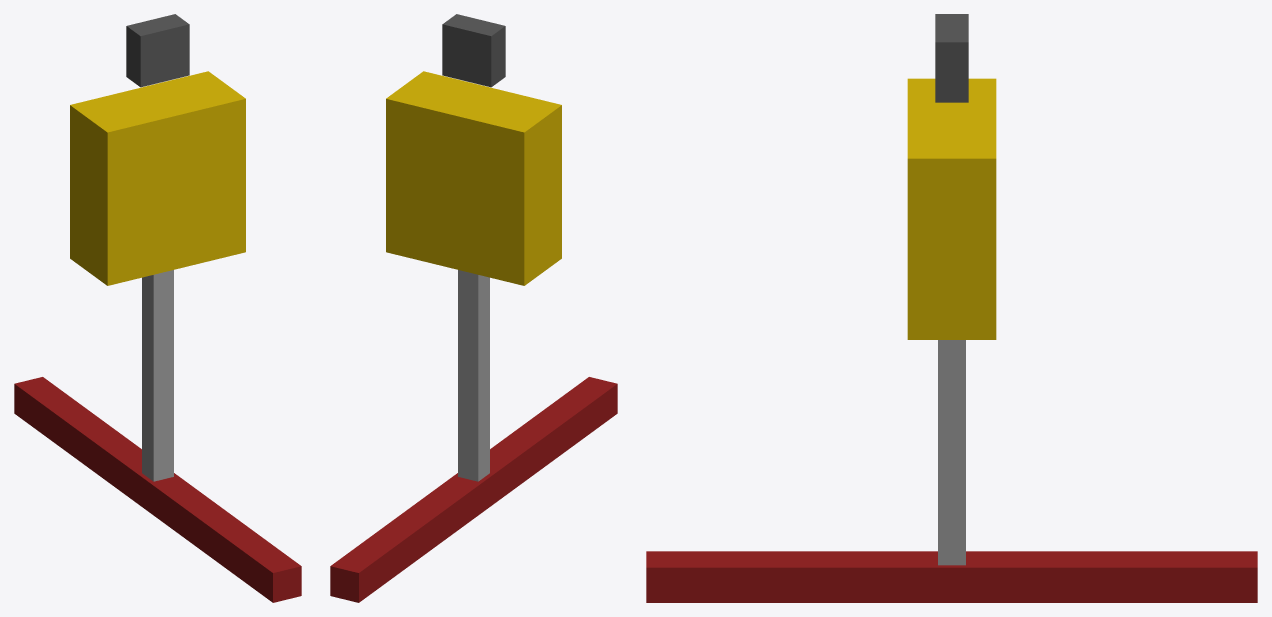
The model's file is tbar_hanger_up.obj.
The picture shows the model from 3 angles, left to right: view 1: azimuth 30°, elevation 25°; view 2: azimuth 150°, elevation 25°; view 3: azimuth 270°, elevation 25°; orthographic projection. The views are drawn at different scales.
Size of the model in its own units: 0.34 by 1.12 by 1.1.
